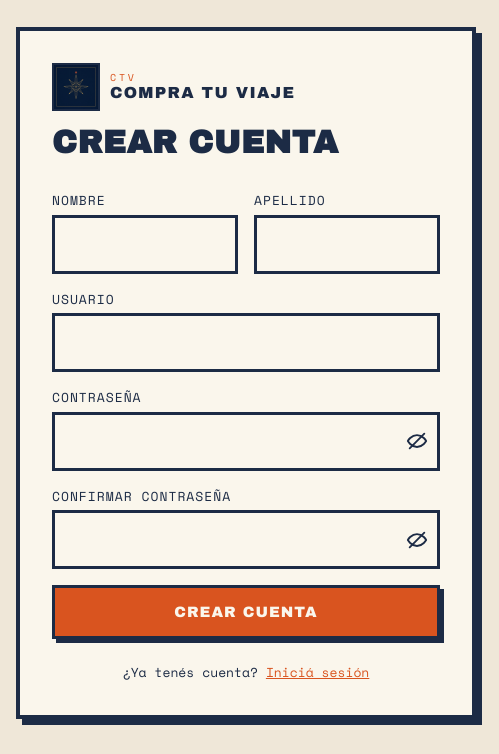
Test: Register page › 06 - shows an error when the passwords do not match
Type "Juan" into the field labelled "Nombre" at (145, 244), box top-left (52, 215), bottom-right (238, 274)
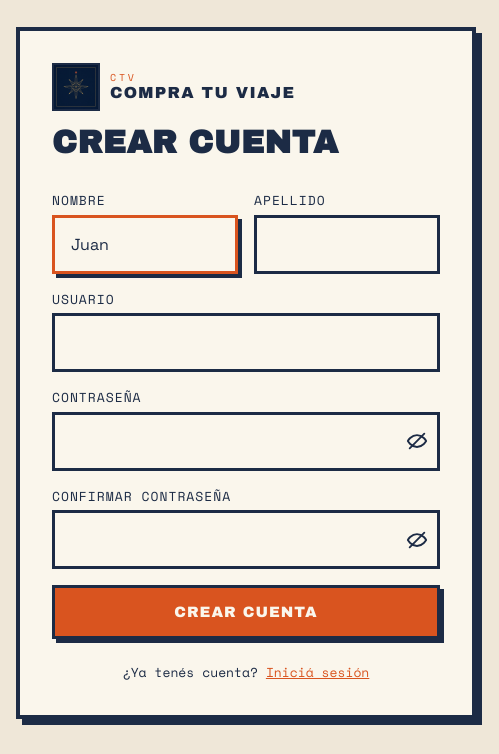
Type "Perez" into the field labelled "Apellido" at (347, 244), box top-left (254, 215), bottom-right (440, 274)
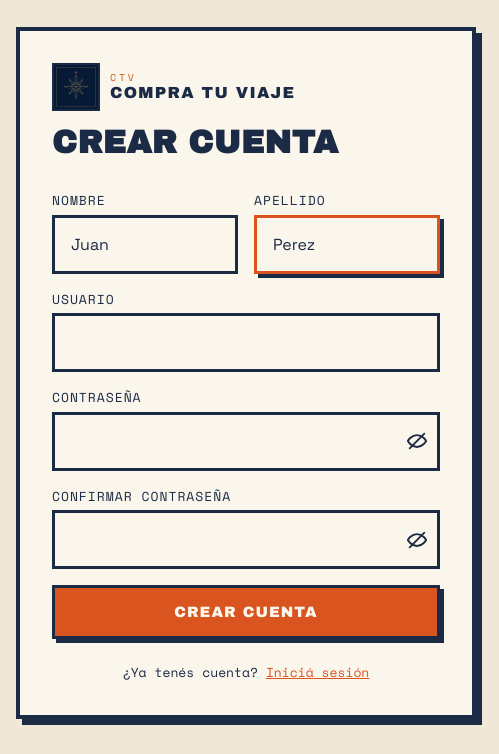
Type "juanperez" into the field labelled "Usuario" at (246, 343), box top-left (52, 313), bottom-right (440, 372)
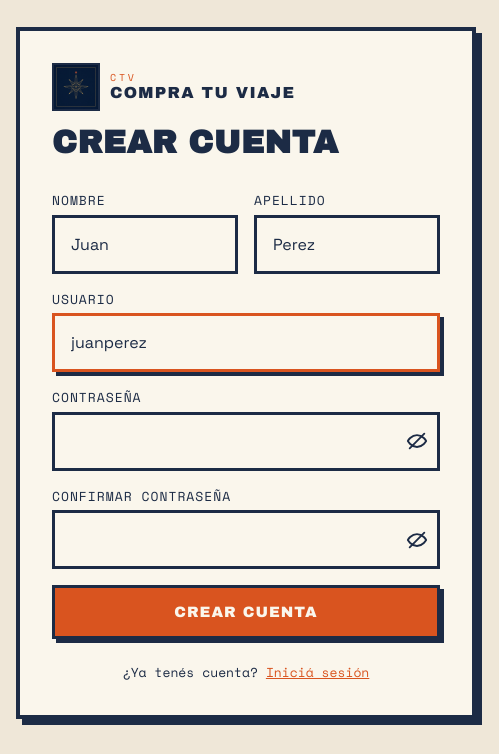
Type "secreto123" into the password field labelled "Contraseña" at (246, 441), box top-left (52, 412), bottom-right (440, 471)
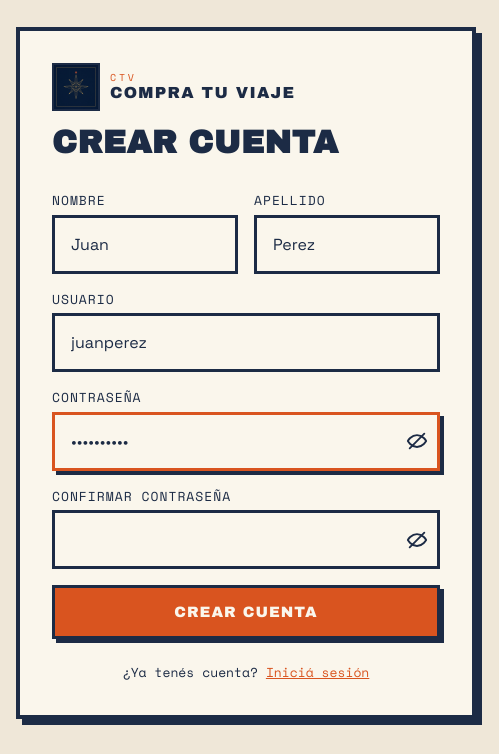
Type "diferente123" into the password field labelled "Confirmar contraseña" at (246, 540), box top-left (52, 510), bottom-right (440, 569)
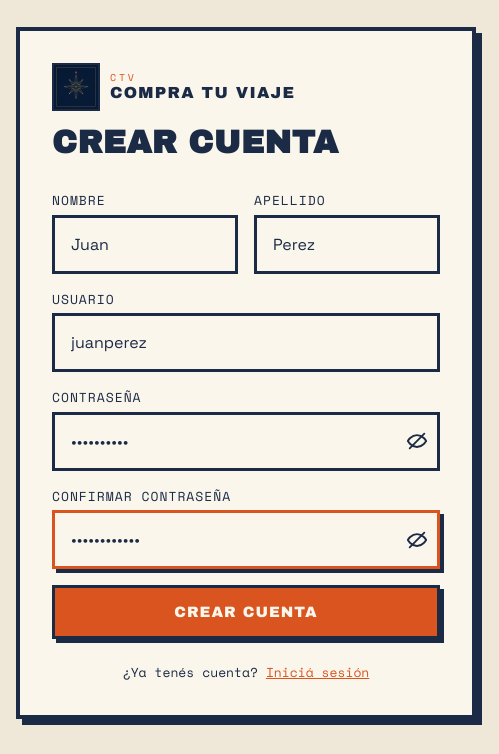
Click the button "Crear cuenta" at (246, 612), box top-left (52, 585), bottom-right (440, 639)
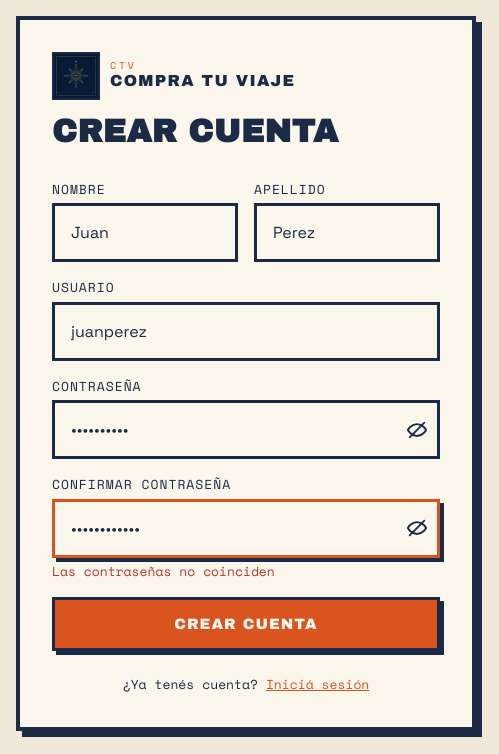
Now the text "Las contraseñas no coinciden" is shown, box top-left (52, 560), bottom-right (275, 580)
